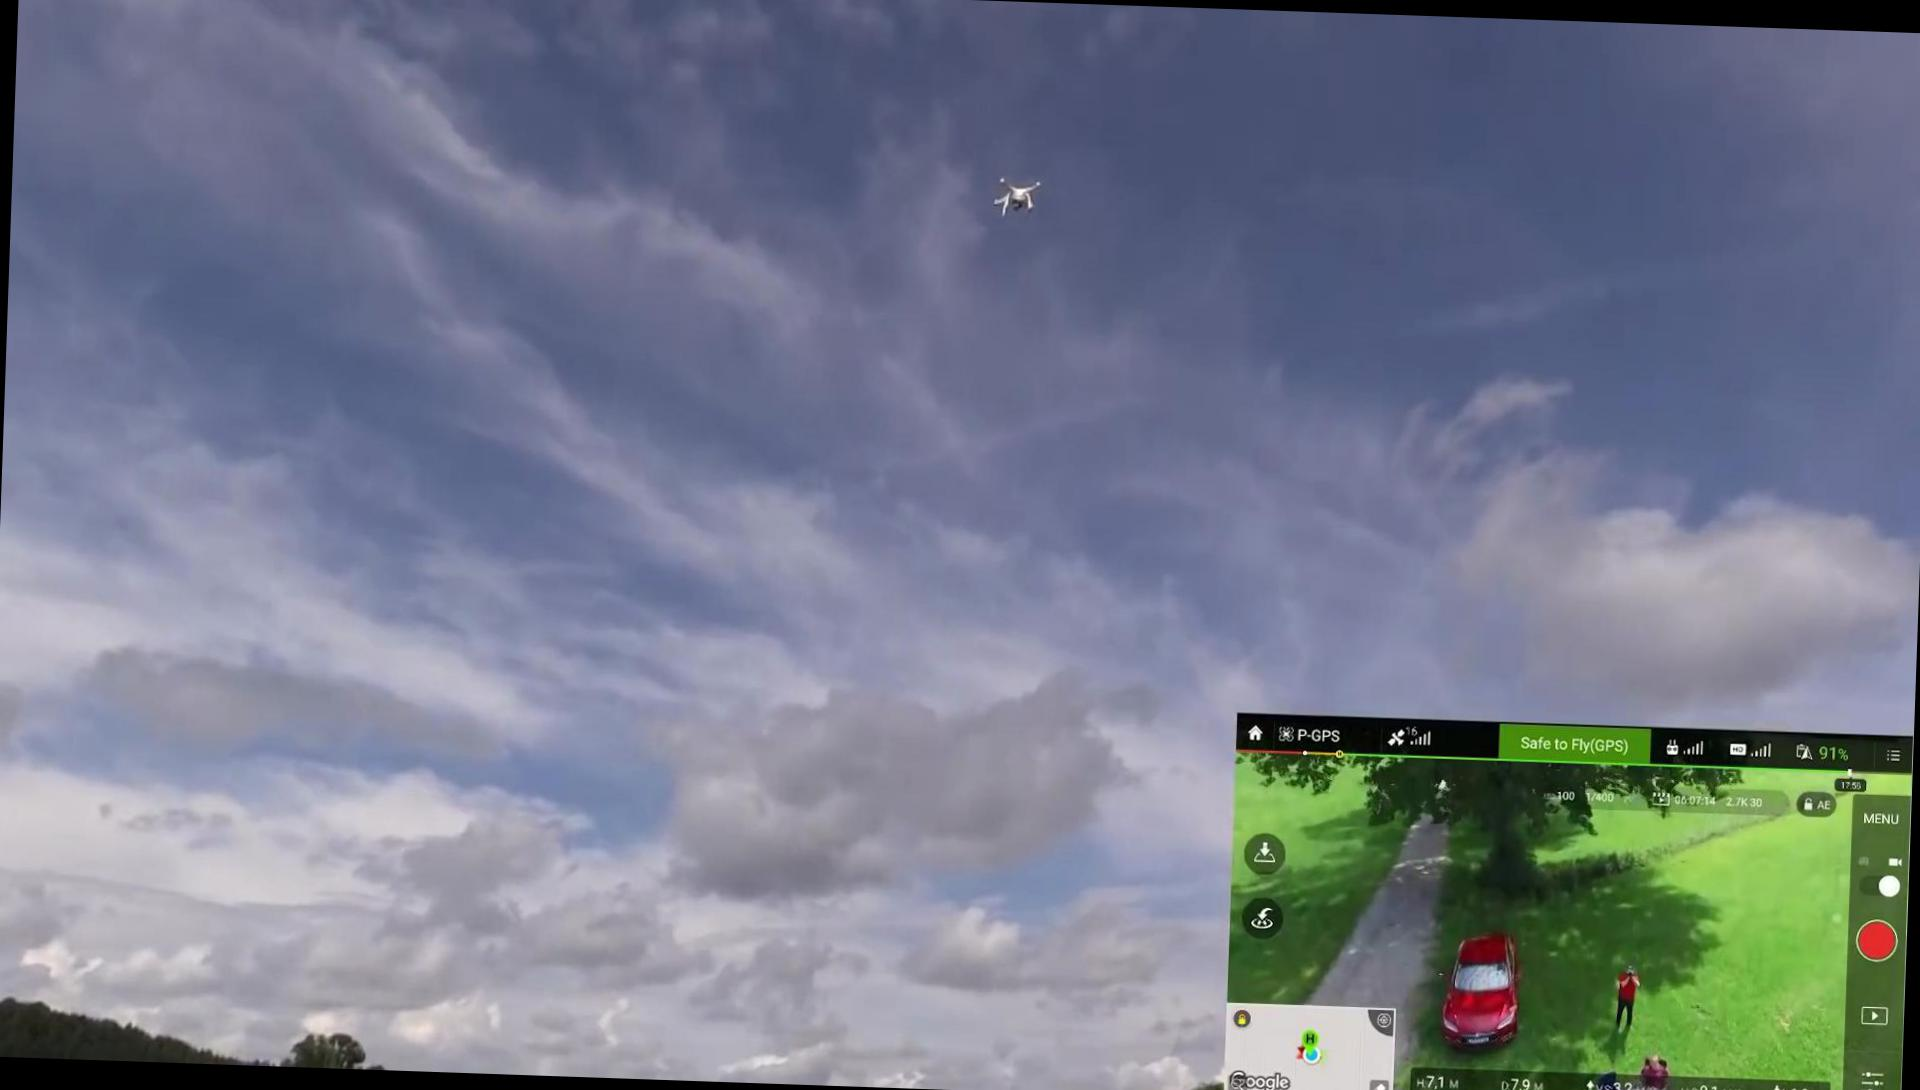drone: (989, 167, 1044, 219)
